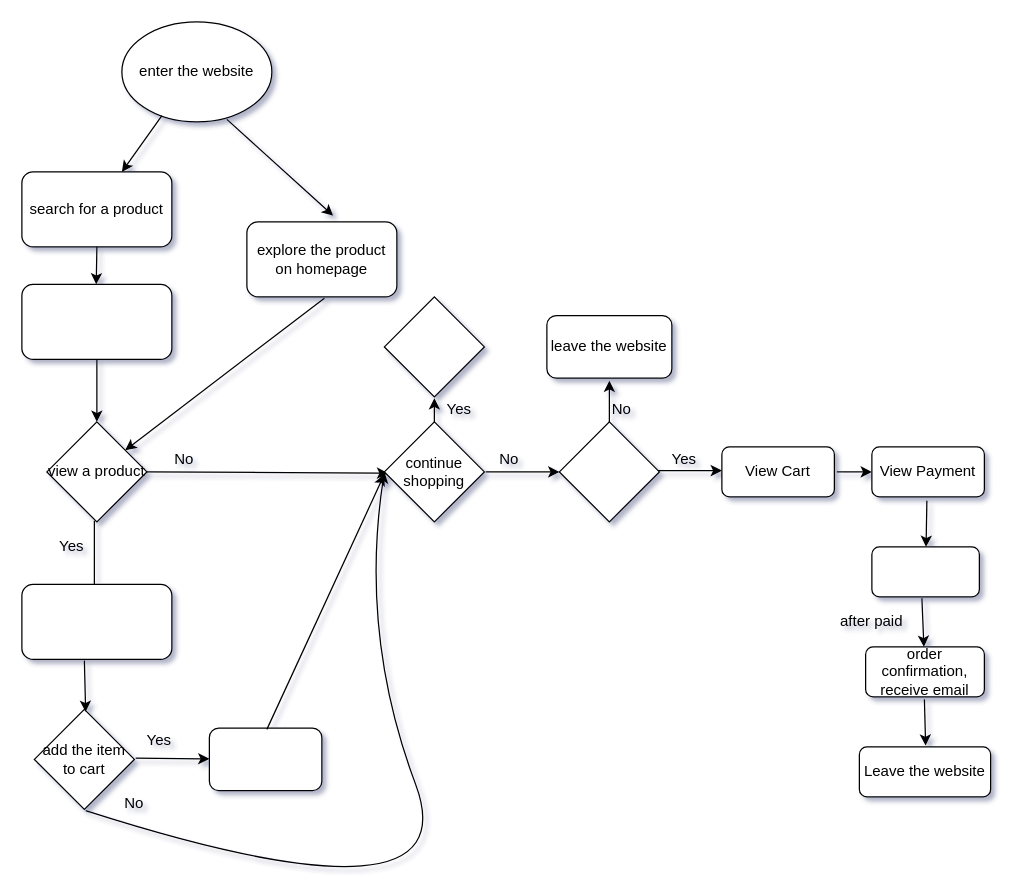
The diagram is 1020 pixels wide and 896 high, and some of its shapes have lost their labels. The shapes that lost their labels are listed below. From the top down, each one's box as (x1, y1, x2, y2) in pixels, then its label:
(21, 283, 172, 359): provide input to the website
(383, 296, 484, 397): search for a new product
(558, 421, 659, 522): checkout
(871, 546, 979, 597): Give input to payment
(21, 583, 172, 659): open the product's webpage
(208, 727, 322, 791): add to cart confirmation
